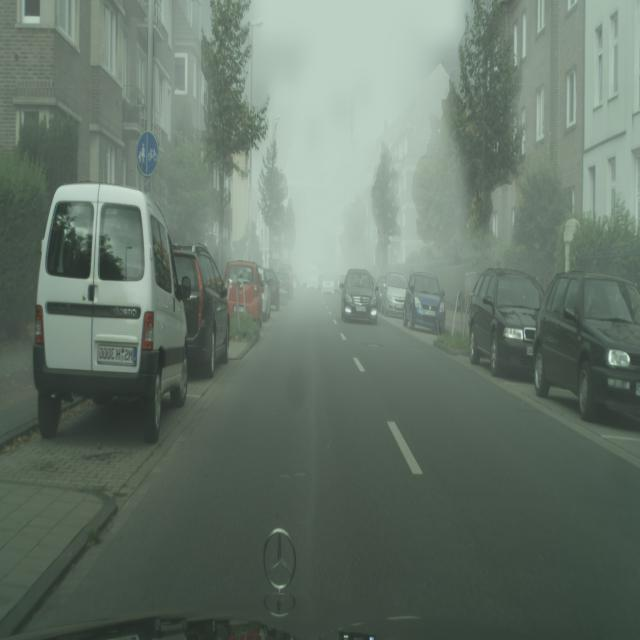truck: (32, 181, 190, 444), (533, 271, 640, 423), (467, 271, 542, 376), (173, 246, 230, 376), (224, 260, 268, 326), (402, 271, 446, 334), (340, 269, 378, 325), (379, 272, 409, 316), (264, 269, 281, 312), (259, 268, 272, 319), (277, 265, 294, 301), (308, 264, 318, 287), (322, 275, 335, 292)
